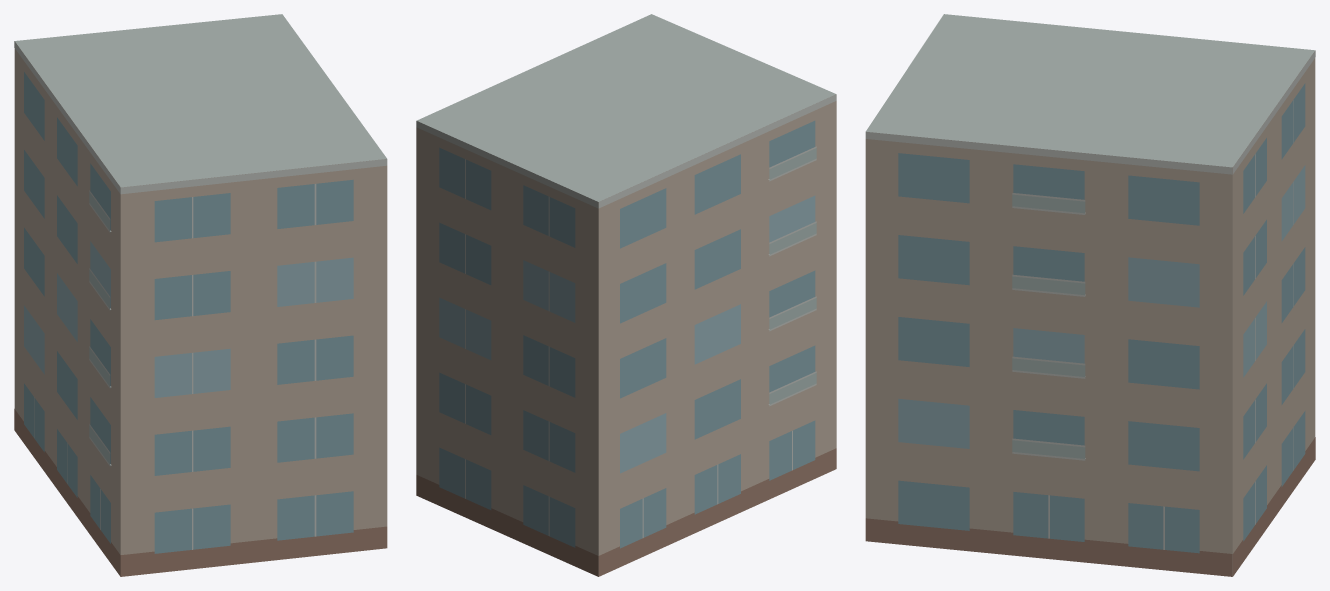
File: survey-upis-32984043.glb
The picture shows the model from 3 angles, left to right: view 1: azimuth 30°, elevation 25°; view 2: azimuth 150°, elevation 25°; view 3: azimuth 270°, elevation 25°; orthographic projection. The views are drawn at different scales.
Visible parts, largest first — view 1: survey-upis-32984043.tmp; view 2: survey-upis-32984043.tmp; view 3: survey-upis-32984043.tmp.
Part boxes in pixels (x1,y1,x2,y2): survey-upis-32984043.tmp: (14,14,387,576); survey-upis-32984043.tmp: (416,14,836,576); survey-upis-32984043.tmp: (865,14,1315,576).
Bounding box in the file's own units: 11.18 × 13.9 × 13.85.
